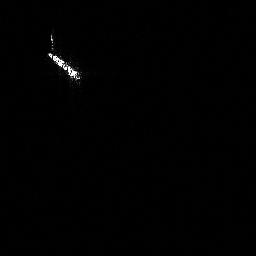ship: (44, 29, 87, 87)
